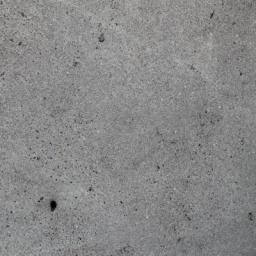FOD: (48, 197, 60, 216)
